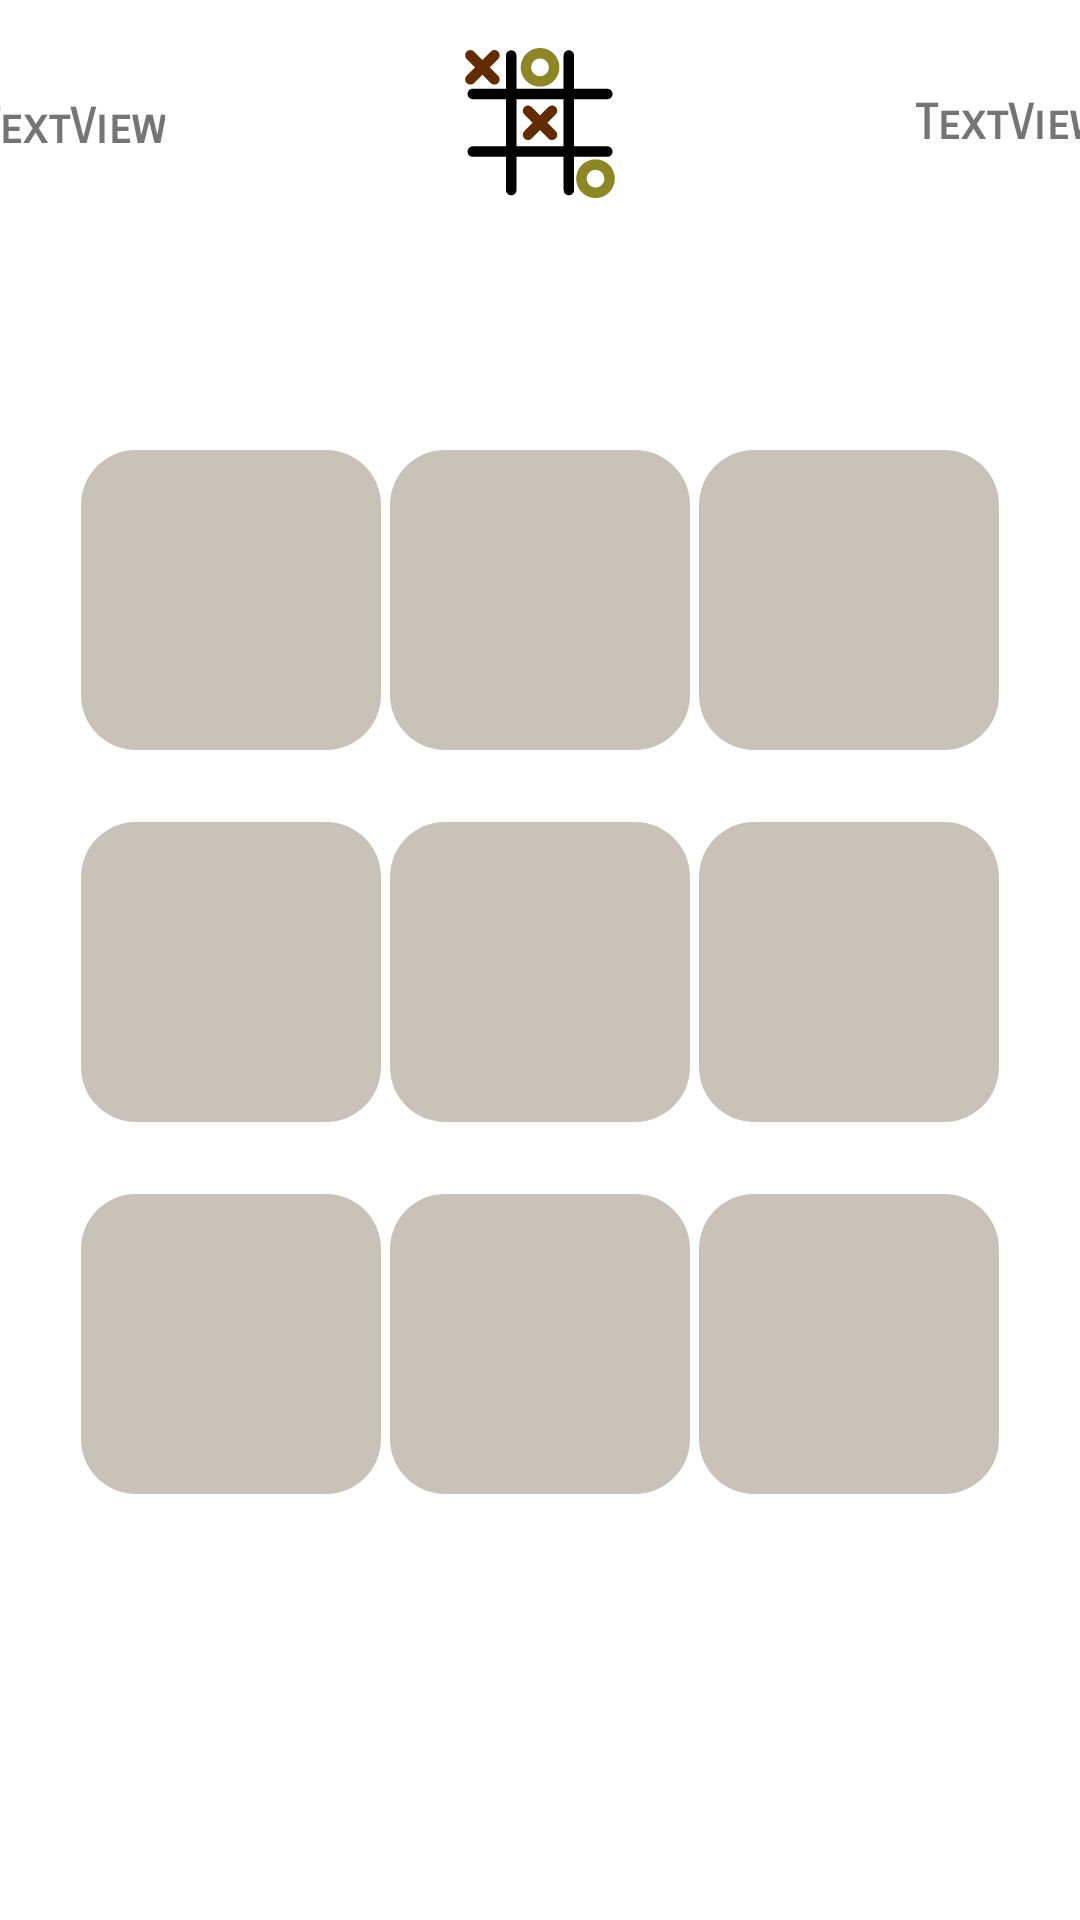

Icon bounding boxes for this 1080w x 1920h phone screenshot, format detection(x1, y1, x2, y2):
tic tac toe game: detection(465, 48, 615, 198)
